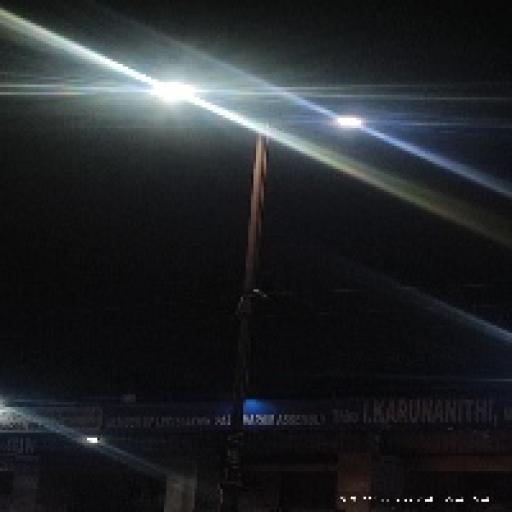Working: (131, 73, 206, 112), (320, 107, 372, 135)
